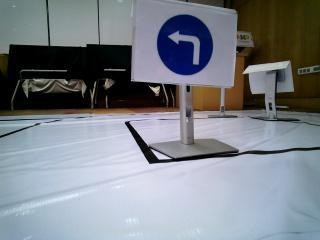left: (140, 1, 229, 84)
